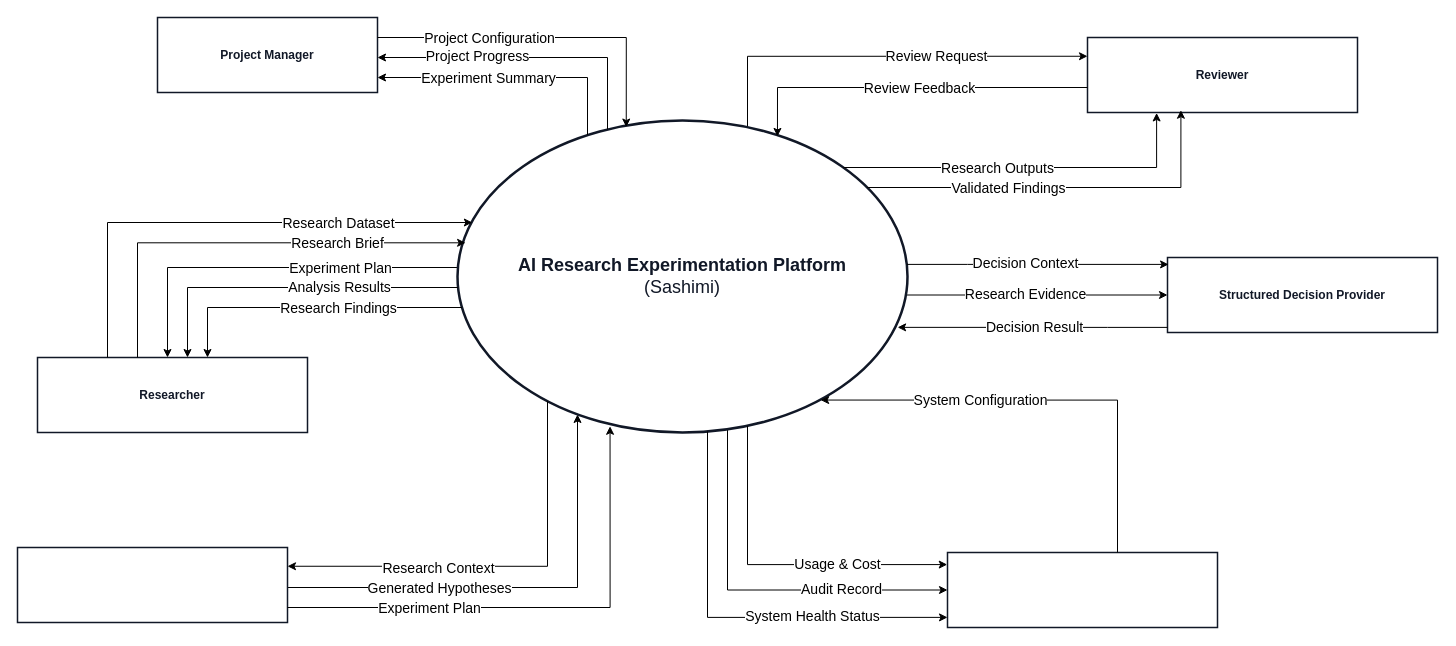
The diagram is 1456 pixels wide and 646 high, and some of its shapes have lost their labels. The centre of each missing label's shape, as x and y in pixels:
"AI / LLM Provider" goes at [152,584].
"System Administrator" goes at [1082,589].
